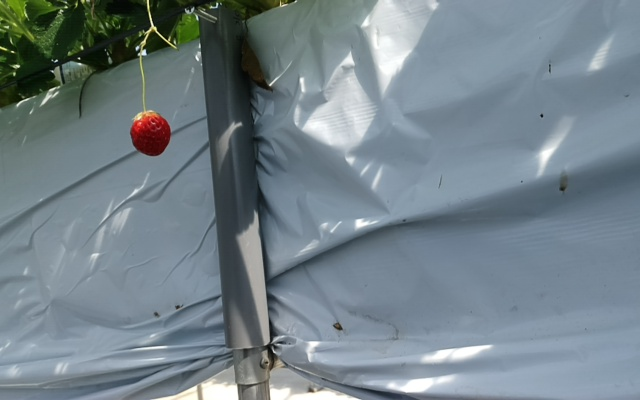MatureStrawberry: (128, 108, 172, 158)
